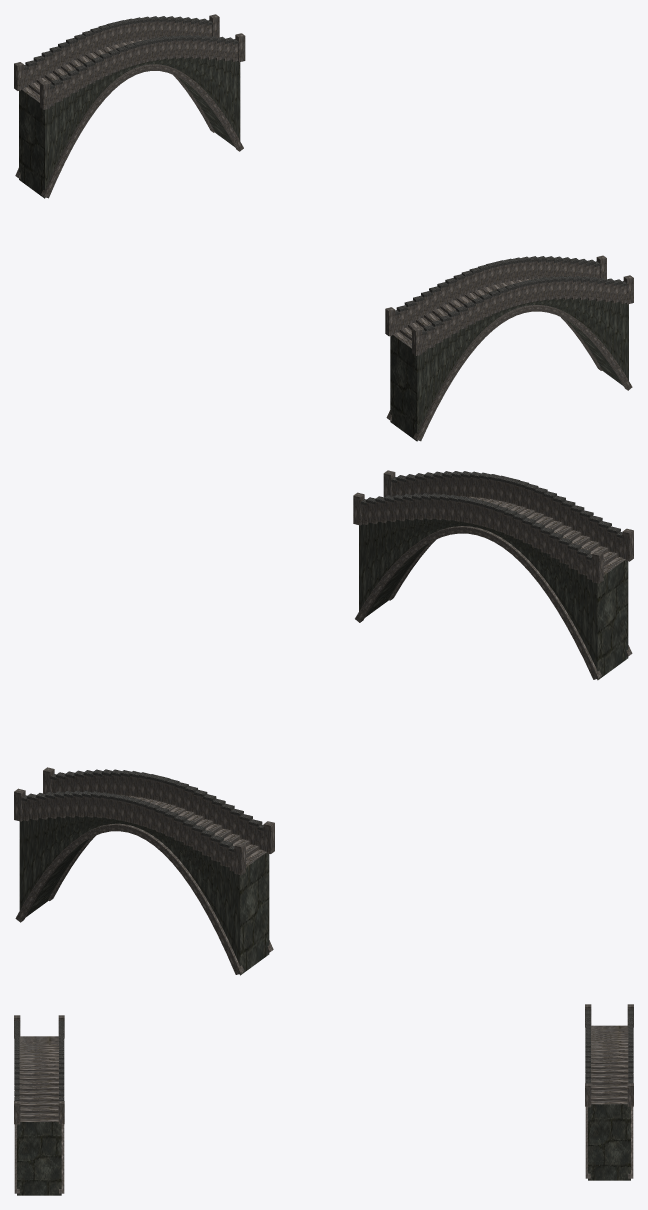
File: canal_bridges.glb
3 views of the same model, one above another, from view 1: azimuth 30°, elevation 25°; view 2: azimuth 150°, elevation 25°; view 3: azimuth 270°, elevation 25° (orthographic). The views are drawn at different scales.
Parts seen in each view (by area): view 1: canal_bridges0; view 2: canal_bridges0; view 3: canal_bridges0.
Boxes of the visible parts, box(x1,y1,x2,y2) form: canal_bridges0: box(14, 14, 633, 441); canal_bridges0: box(14, 470, 633, 975); canal_bridges0: box(14, 1004, 633, 1195).
Bounding box in the file's own units: 9.04 × 4.79 × 23.92.
Materials: 1 (1 with a texture image).
